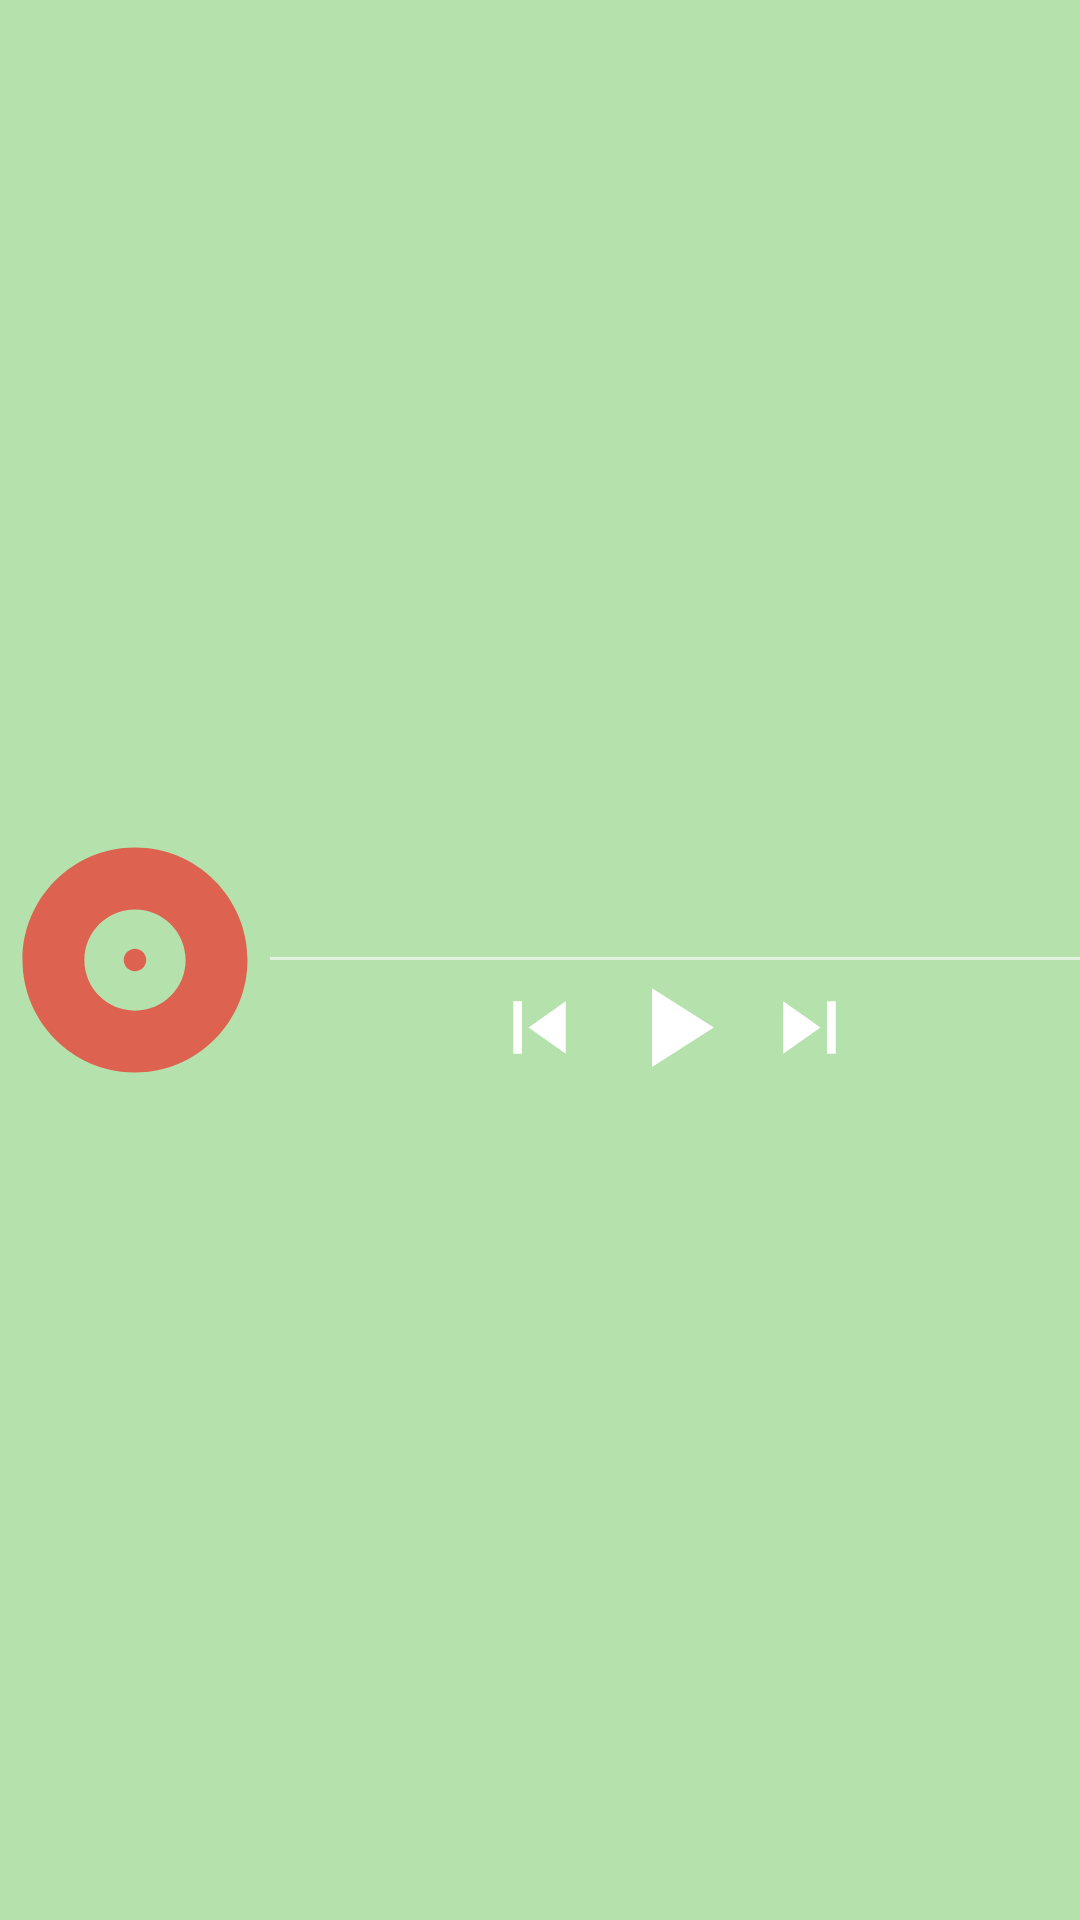

Screen size 1080*1920. Icon name, then its box in pixels as (x1, y1, x2, y2):
album: (22, 847, 248, 1073)
play: (652, 988, 714, 1067)
skip next: (783, 1001, 836, 1054)
skip previous: (513, 1001, 566, 1054)
